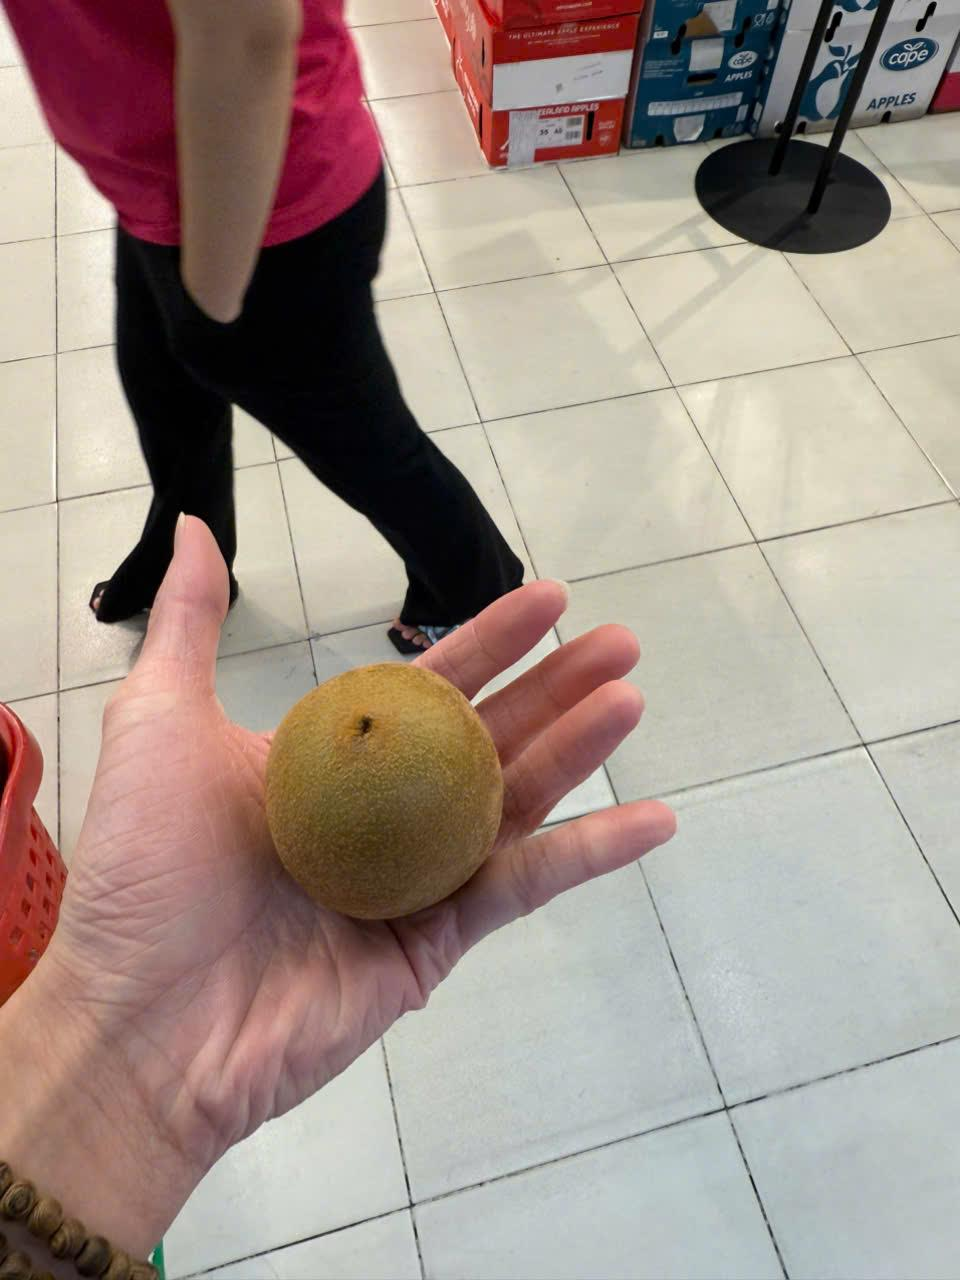kiwi: (255, 655, 526, 932)
